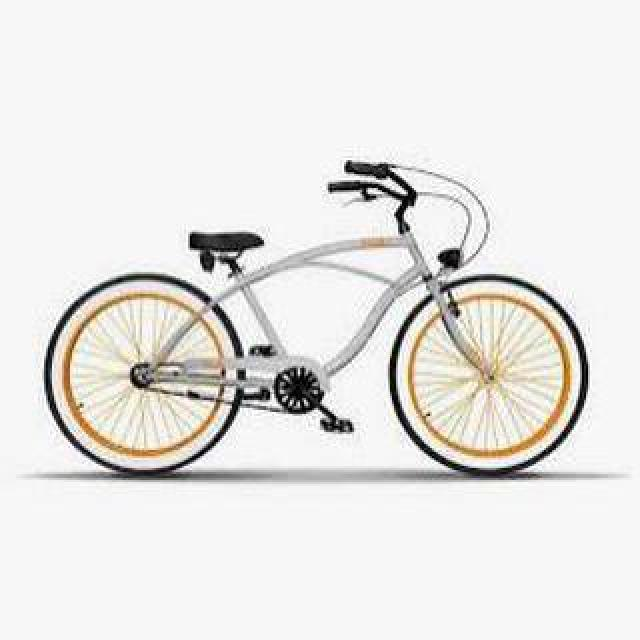Person: (43, 156, 591, 482)
